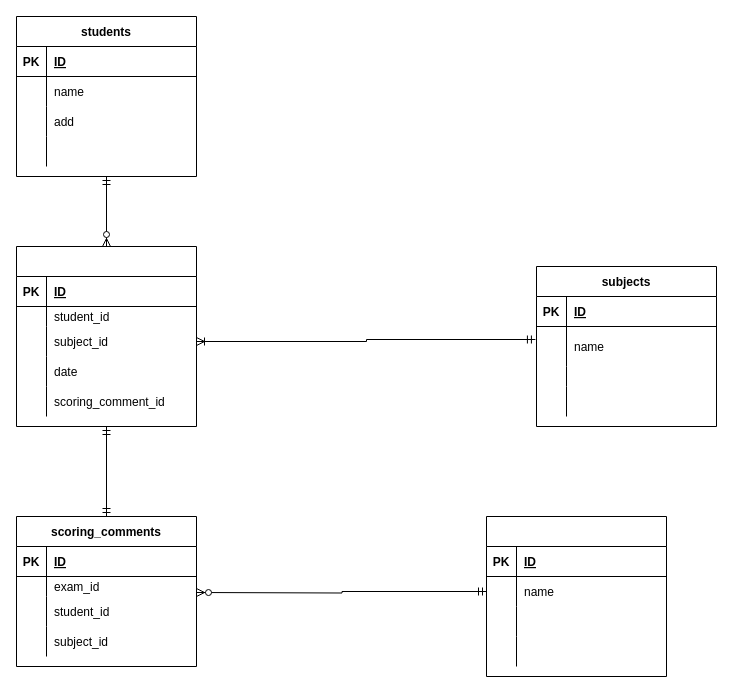
The diagram is 733 pixels wide and 693 high, and some of its shapes have lost their labels. Here are the shapes that lost their labels. From the top down, the box of each, then its label:
(16, 246, 196, 426): exam
(486, 516, 666, 676): teacher
